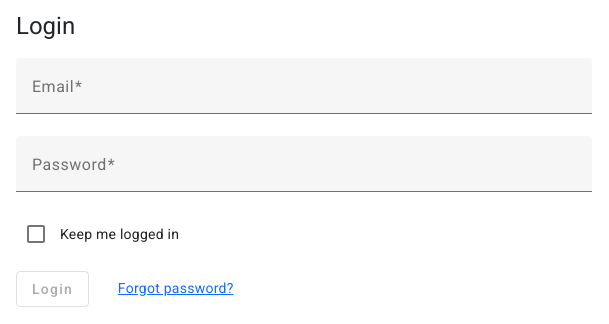
Scenario: LoginComponent › handles service NEXT notification › hide the successfully completed form and show the success alert banner
Check: the button "MatButtonHarness" is disabled, box [16,271,89,307]
Type "testuser@test.com" into the field with id "username" at {"x": 304, "y": 94}, box [32,82,576,106]
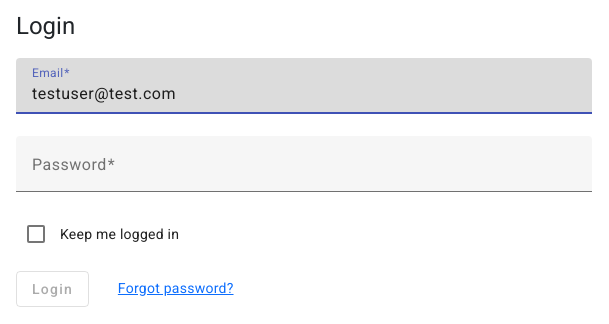
Check: the button "MatButtonHarness" is disabled, box [16,271,89,307]
Type "mkeof&Tgh1p" into the password field at {"x": 304, "y": 172}, box [32,160,576,184]
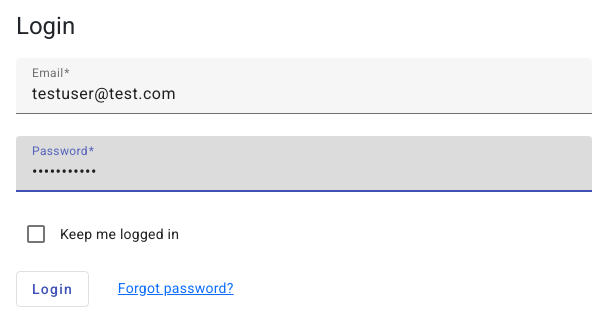
Check: the button "MatButtonHarness" is enabled
Click the button "MatButtonHarness" at {"x": 53, "y": 289}, box [16,271,89,307]
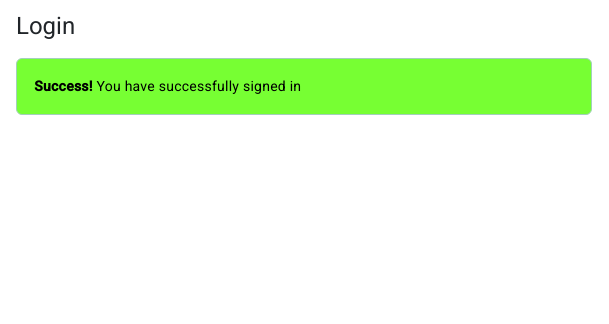
Check: the element with test id "success" reads "Success! You have successfully signed in", box [16,58,592,114]
